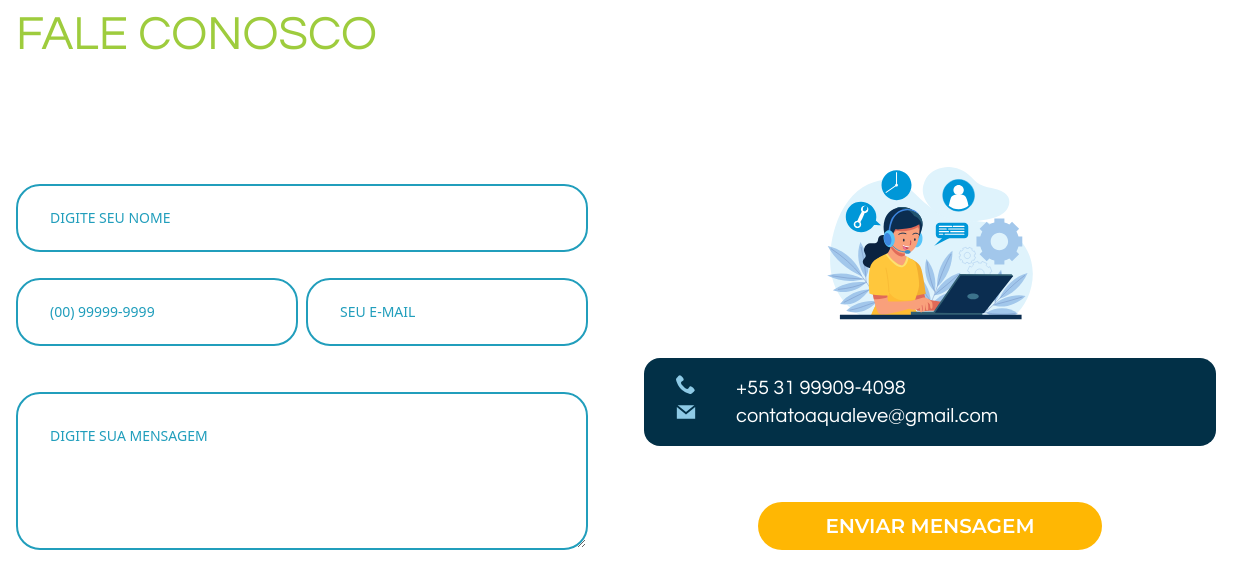
Test: FaleConosco › shows an error when FormSubmit rejects the request
In the field with placeholder "DIGITE SEU NOME": (302, 218) [16, 184, 588, 252], type "Maria"
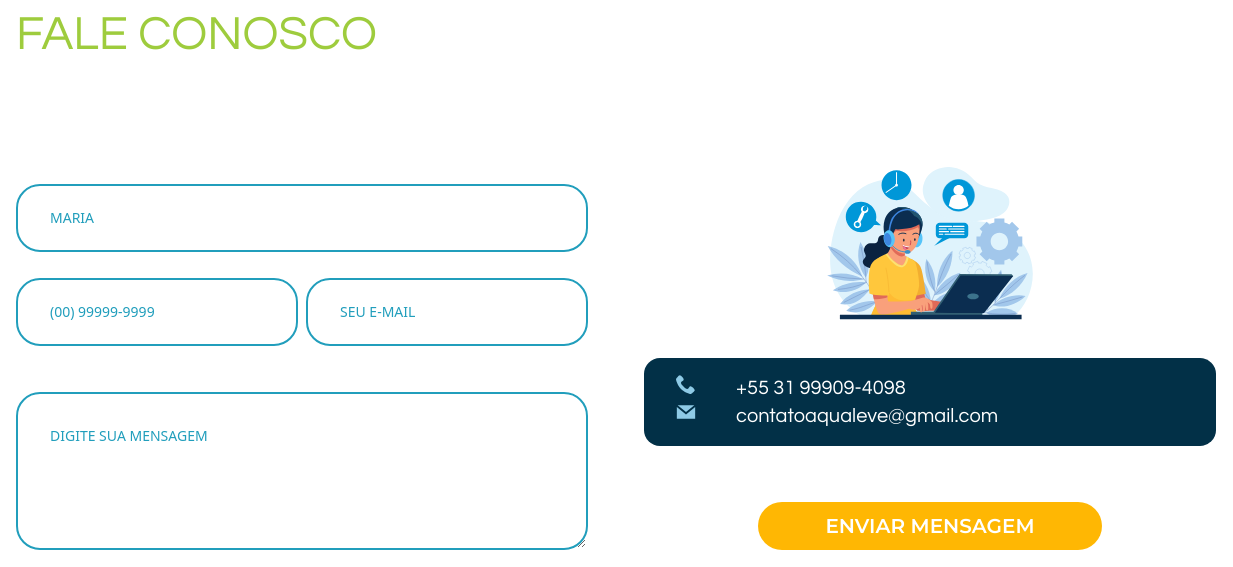
In the field with placeholder "SEU E-MAIL": (447, 312) [306, 278, 588, 346], type "maria@example.com"
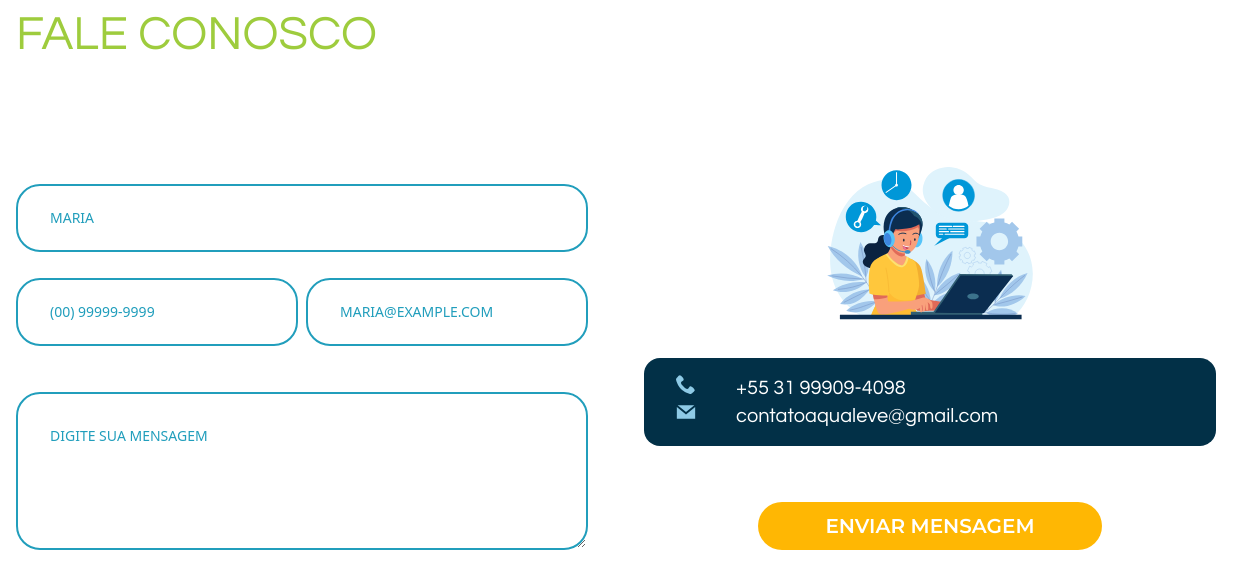
In the text box with placeholder "DIGITE SUA MENSAGEM": (302, 471) [16, 392, 588, 550], type "Quero um orçamento completo."
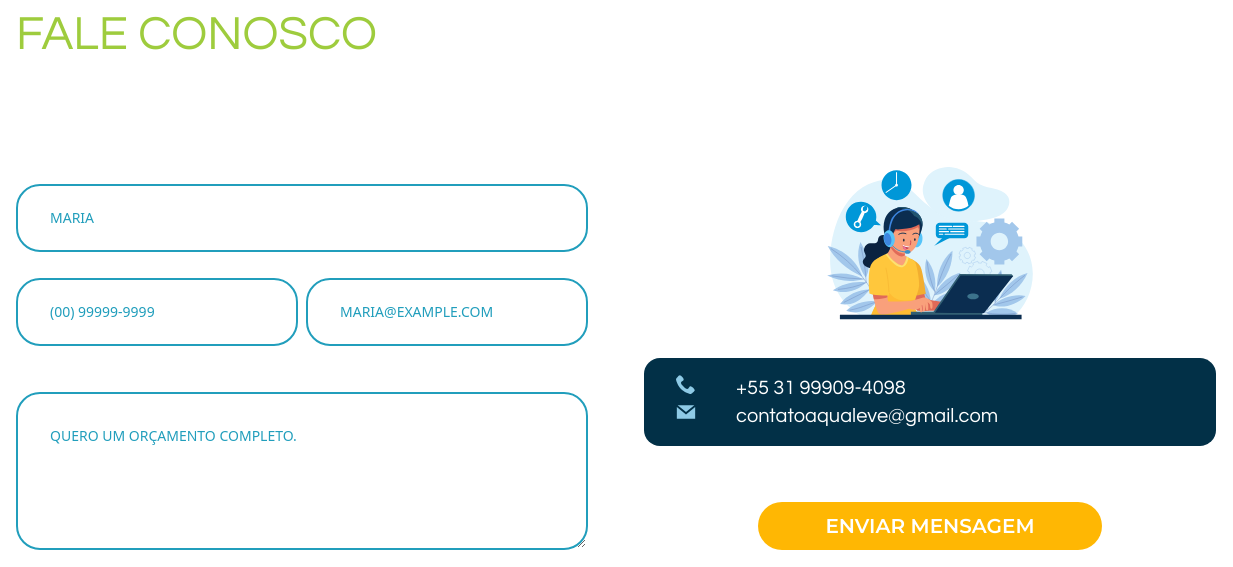
Submit the form with id "formulario-faleconosco"
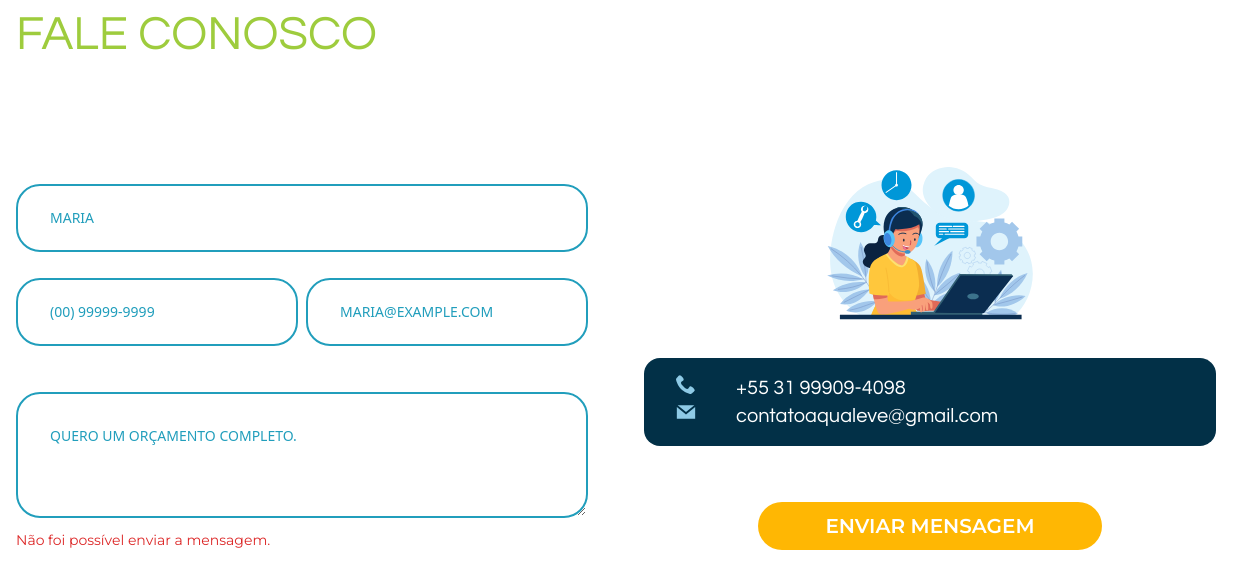
Expected: the text "Não foi possível enviar a mensagem." is shown, [16, 531, 270, 549]
